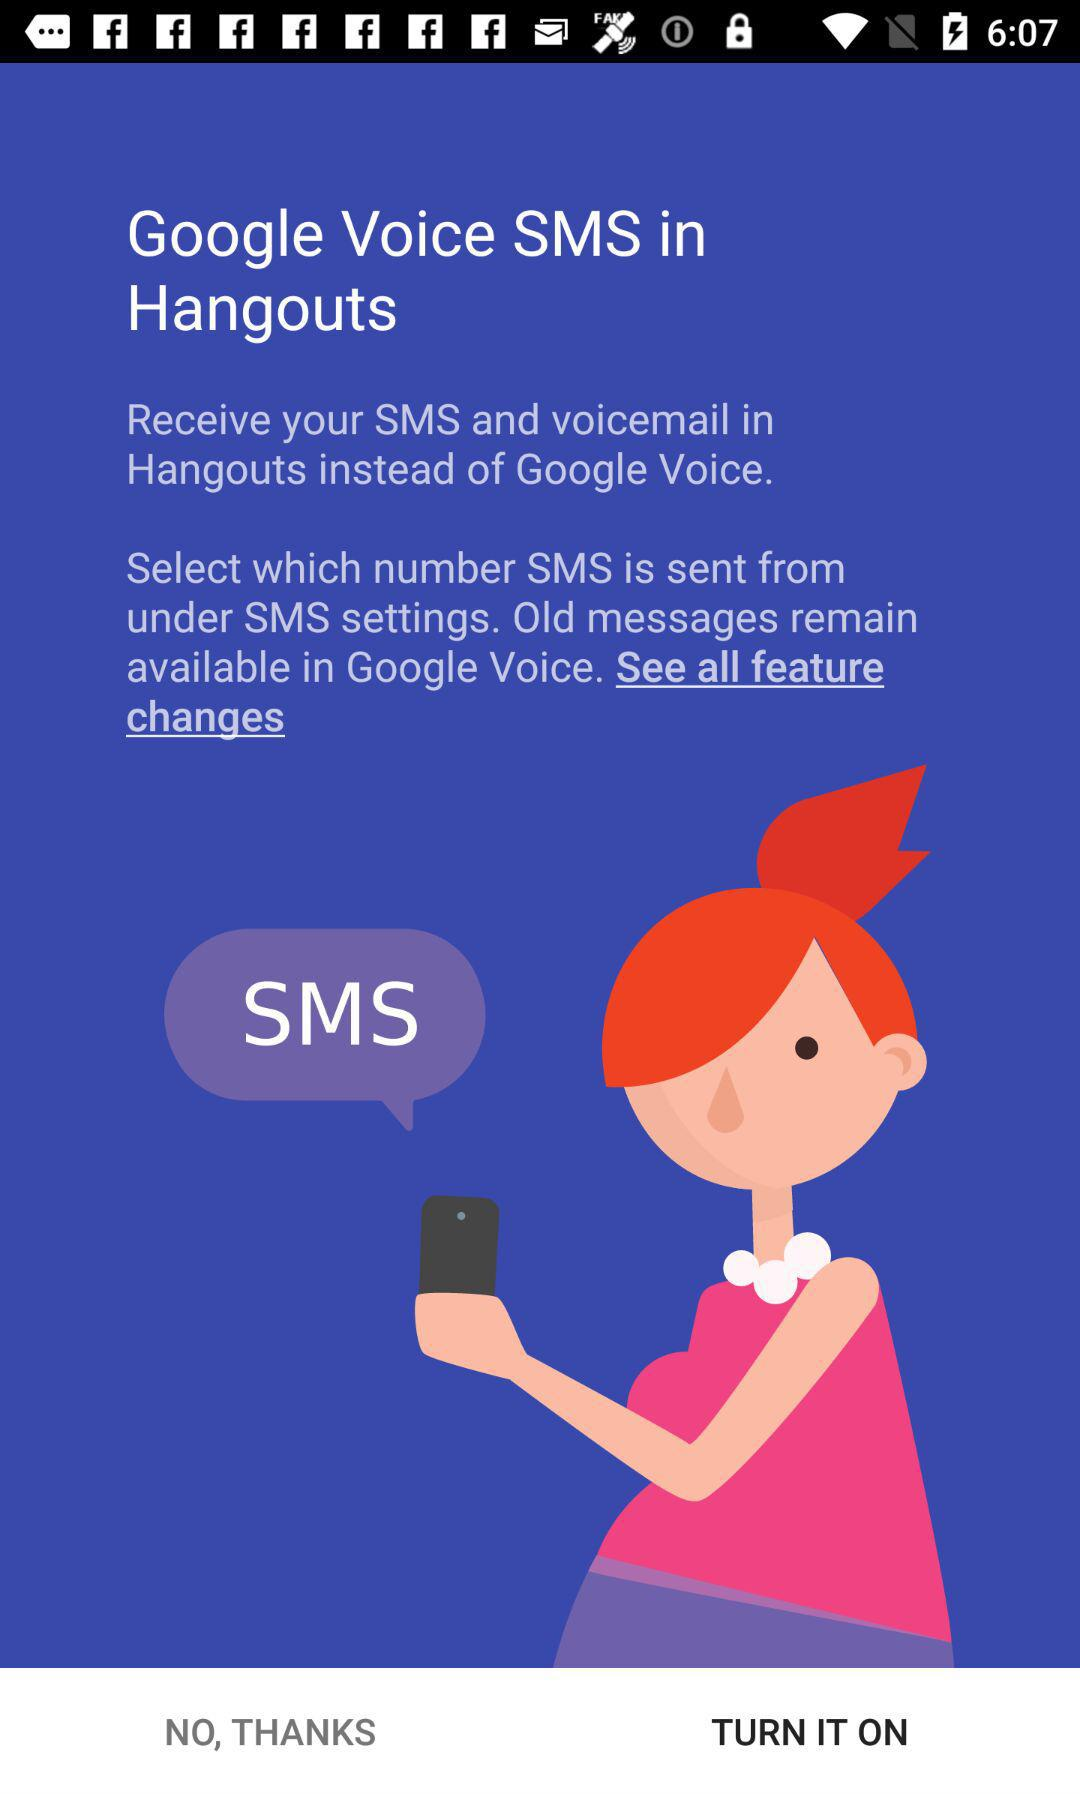Image: (163, 762, 953, 1668)
Text: (126, 548, 919, 743), (129, 208, 707, 349), (128, 401, 775, 497), (167, 1717, 377, 1753), (711, 1717, 908, 1747)
UpperTaskBar: (1, 1, 1080, 64)
